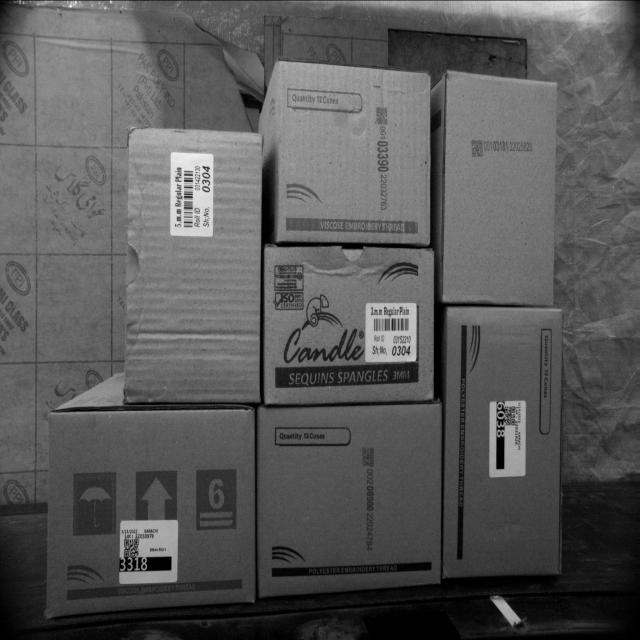cardboxes: (48, 407, 258, 612), (128, 126, 262, 406), (260, 404, 440, 589), (445, 307, 564, 578), (275, 60, 433, 243), (445, 69, 559, 308), (264, 243, 435, 401)
